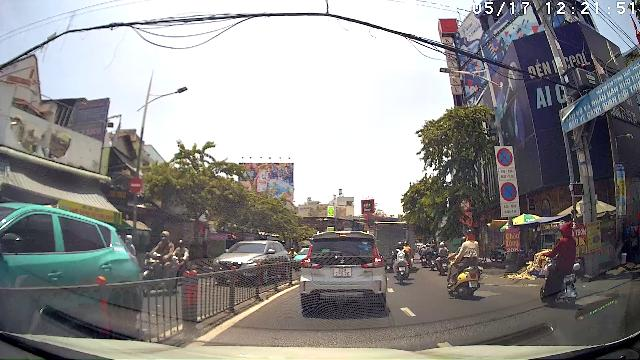130-cam-dung-va-do-xe: (497, 148, 513, 167)
131a-cam-do-xe: (500, 181, 517, 202)
